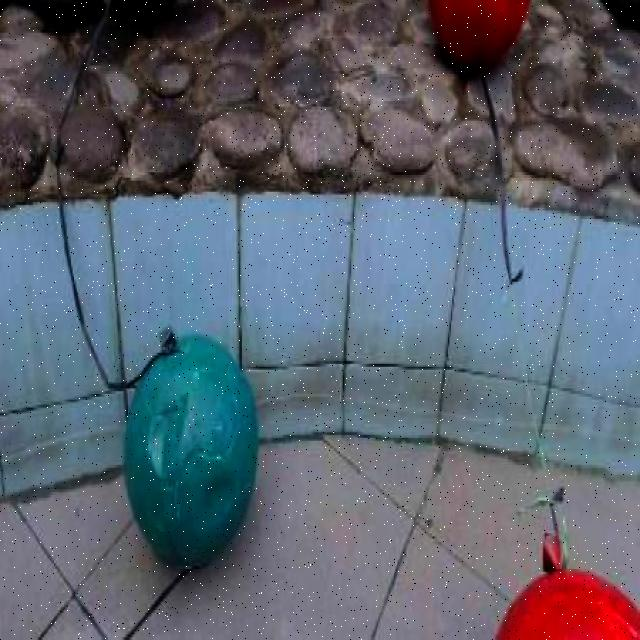buoy: (124, 334, 257, 563), (494, 566, 638, 637), (430, 1, 530, 70)
